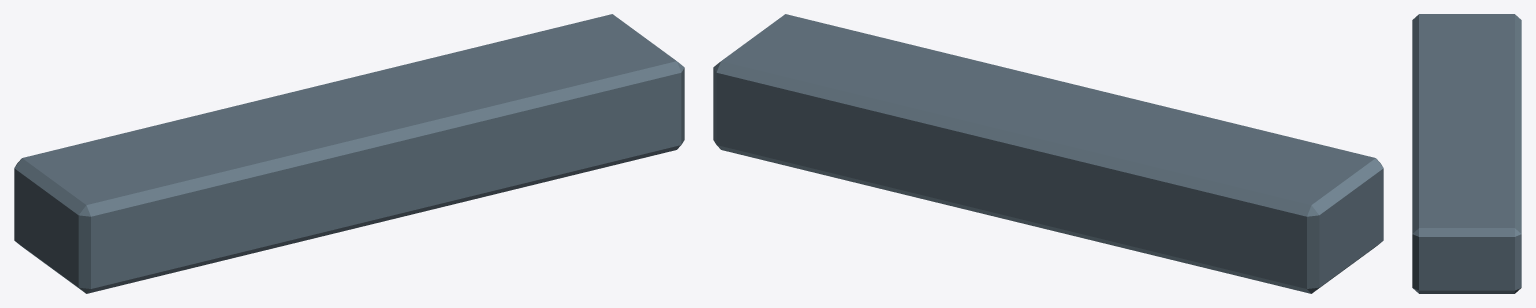
Rendered from A12_Stone_Lintel_2m.fbx.
3 views of the same model, side by side, from view 1: azimuth 30°, elevation 25°; view 2: azimuth 150°, elevation 25°; view 3: azimuth 270°, elevation 25° (orthographic). The views are drawn at different scales.
Visible parts, largest first — view 1: A12_Stone_Lintel_2m; view 2: A12_Stone_Lintel_2m; view 3: A12_Stone_Lintel_2m.
Boxes of the visible parts, box(x1,y1,x2,y2) form: A12_Stone_Lintel_2m: box(14, 14, 684, 293); A12_Stone_Lintel_2m: box(713, 14, 1383, 293); A12_Stone_Lintel_2m: box(1412, 14, 1521, 293).
Size of the model in its own units: 2 by 0.28 by 0.42.
Materials: 1 (1 with a texture image).
